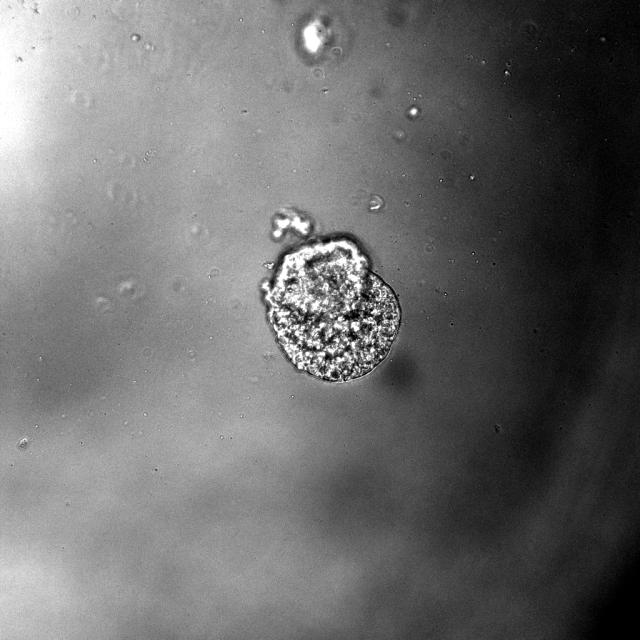organoid: (261, 235, 400, 382), (272, 207, 312, 239)
